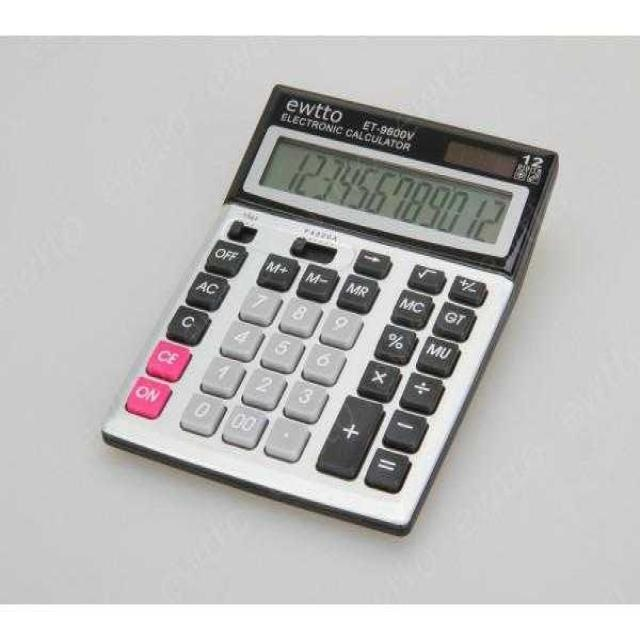Calculator: (99, 81, 559, 536)
